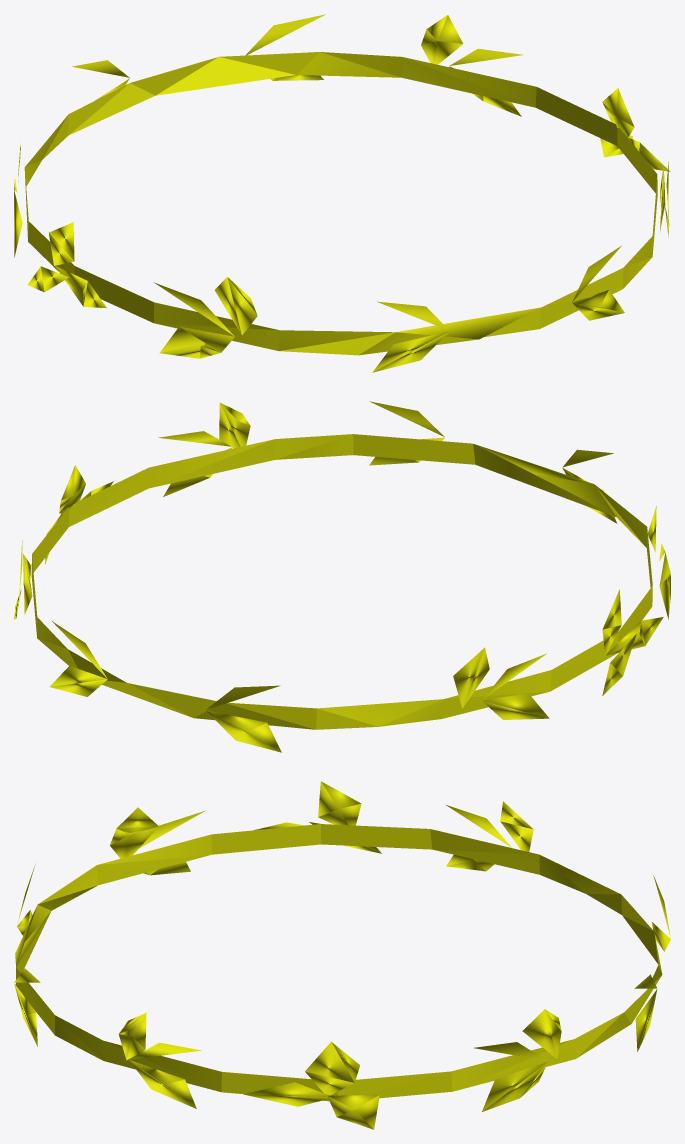
File: head-healer.glb
The picture shows the model from 3 angles, top to bottom: view 1: azimuth 30°, elevation 25°; view 2: azimuth 150°, elevation 25°; view 3: azimuth 270°, elevation 25°; orthographic projection. The views are drawn at different scales.
Parts seen in each view (by area): view 1: head-healer; view 2: head-healer; view 3: head-healer.
Boxes of the visible parts, bbox=[...] form: head-healer: bbox=[14, 14, 670, 372]; head-healer: bbox=[14, 401, 670, 752]; head-healer: bbox=[14, 781, 670, 1129].
Bounding box in the file's own units: 0.2581 × 0.0397 × 0.2633.
1 material, 1 textured.
